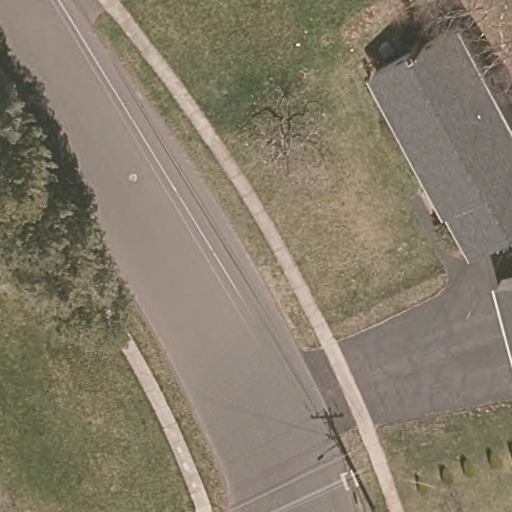DT: (341, 469, 364, 512)
